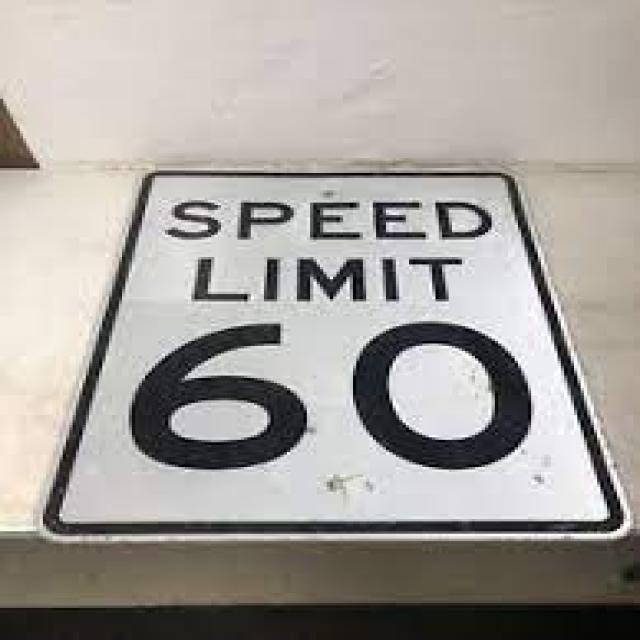speedLimit60: (39, 166, 617, 551)
